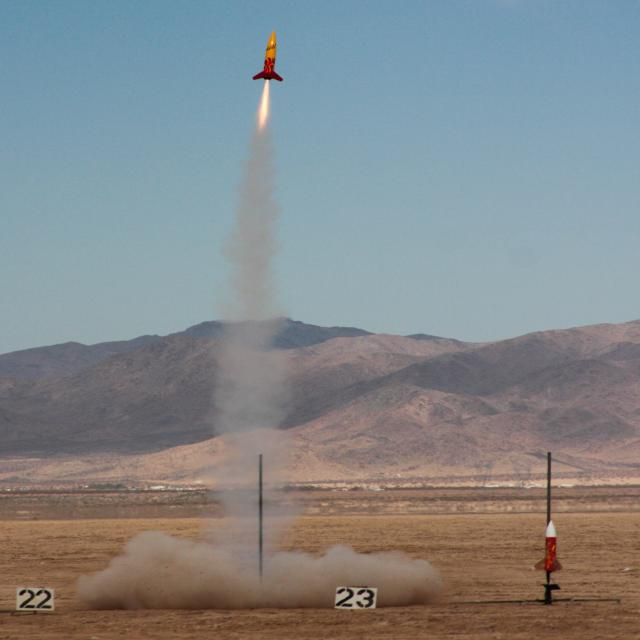Rocket: (252, 28, 284, 82), (533, 519, 563, 572)
